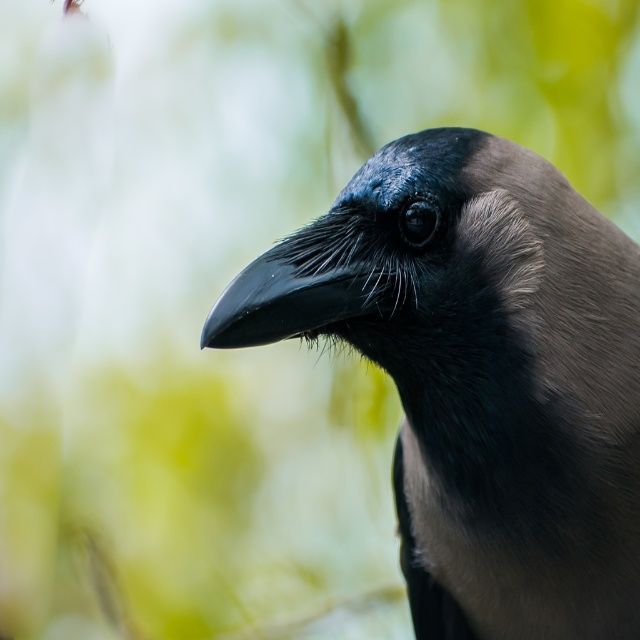Raven: (200, 127, 640, 640)
